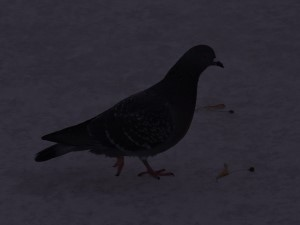pigeon: (33, 42, 226, 182)
